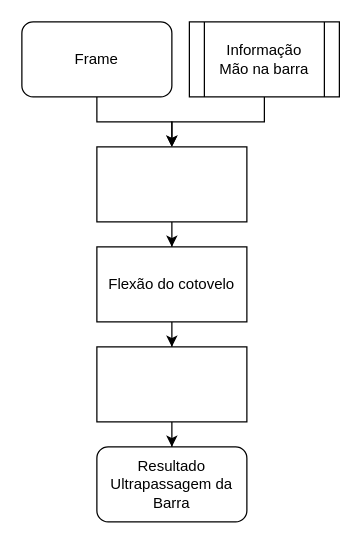
Some shapes in this 361 by 544 pixel diagram are drawn without their labels. Here are the shapes that lost their labels. From the top down, the centre of each, then its label:
point (171, 184): Posição do peito em relação à barra
point (171, 384): Detecção de uma presença na área de interesse
